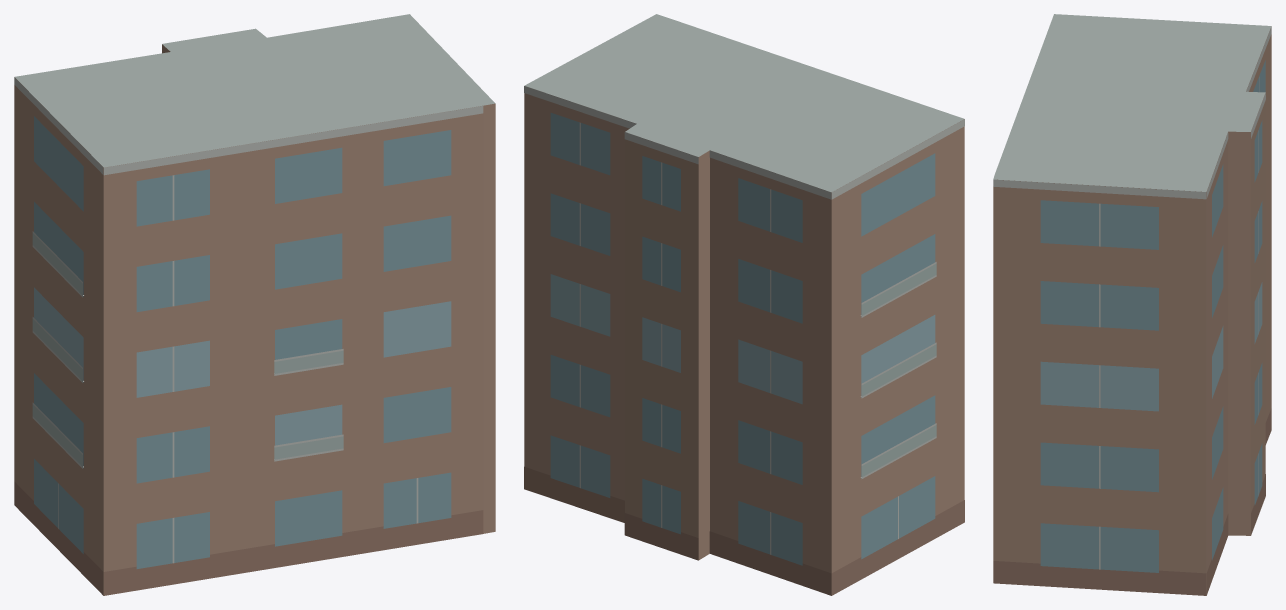
Rendered from survey-upis-32903681.glb.
3 renders of one model, left to right at view 1: azimuth 30°, elevation 25°; view 2: azimuth 150°, elevation 25°; view 3: azimuth 270°, elevation 25°, orthographic. The views are drawn at different scales.
Parts seen in each view (by area): view 1: survey-upis-32903681.tmp; view 2: survey-upis-32903681.tmp; view 3: survey-upis-32903681.tmp.
Part boxes in pixels (left/top/right/bottom): survey-upis-32903681.tmp: left=14, top=14, right=495, bottom=595; survey-upis-32903681.tmp: left=524, top=14, right=964, bottom=595; survey-upis-32903681.tmp: left=993, top=14, right=1271, bottom=595.
Bounding box in the file's own units: 12.77 × 13.5 × 8.44.
